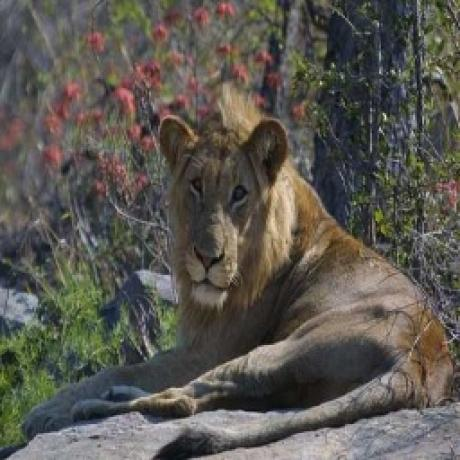Lion: (17, 91, 456, 460)
